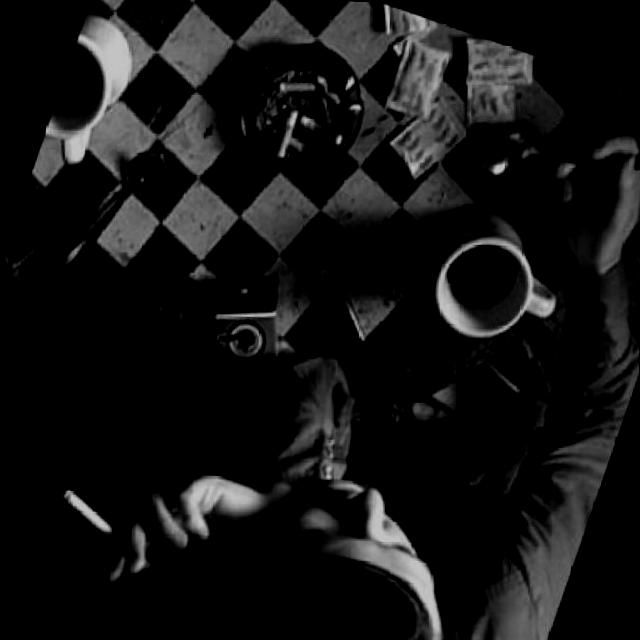cigarette: (46, 484, 171, 573)
